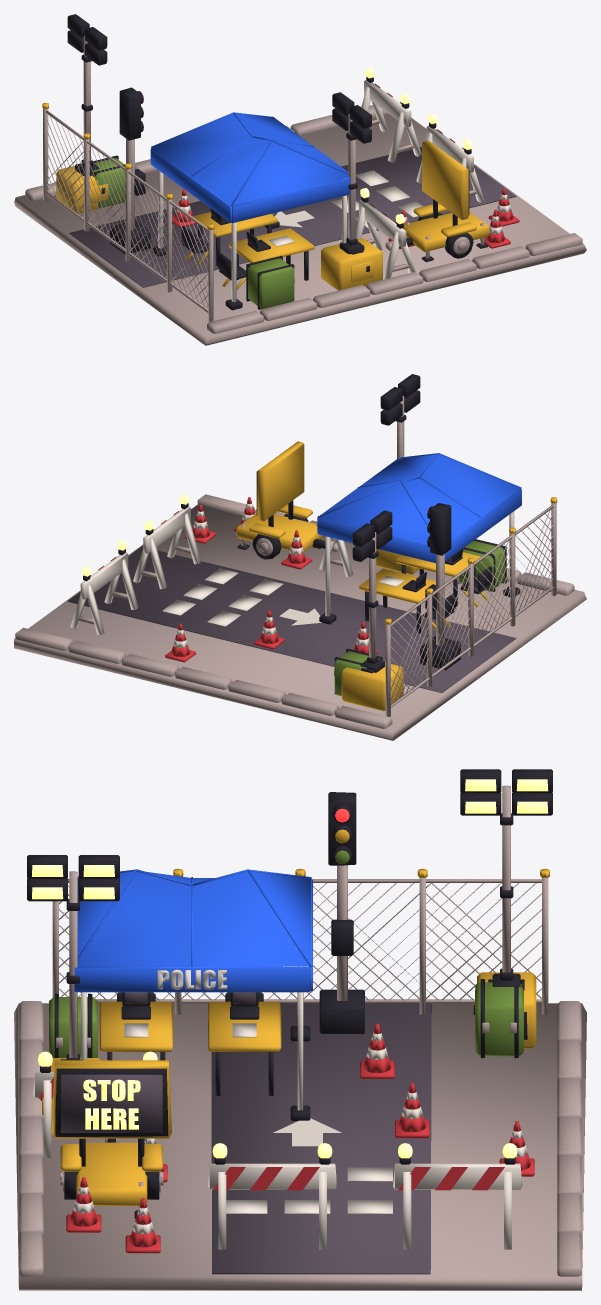
3 renders of one model, top to bottom at view 1: azimuth 30°, elevation 25°; view 2: azimuth 150°, elevation 25°; view 3: azimuth 270°, elevation 25°, orthographic. The views are drawn at different scales.
Parts seen in each view (by area): view 1: object 3, roof, interior; view 2: object 3, roof, interior; view 3: object 3, roof, interior.
Part boxes in pixels (<box>): object 3: <box>14,14,586,345</box>; roof: <box>150,112,350,223</box>; interior: <box>181,208,314,290</box>; object 3: <box>14,374,586,740</box>; roof: <box>317,453,521,563</box>; interior: <box>359,548,492,633</box>; object 3: <box>14,769,586,1290</box>; roof: <box>74,869,312,992</box>; interior: <box>99,992,281,1095</box>.
Bounding box in the file's own units: 9.4 × 4.4 × 8.2.
